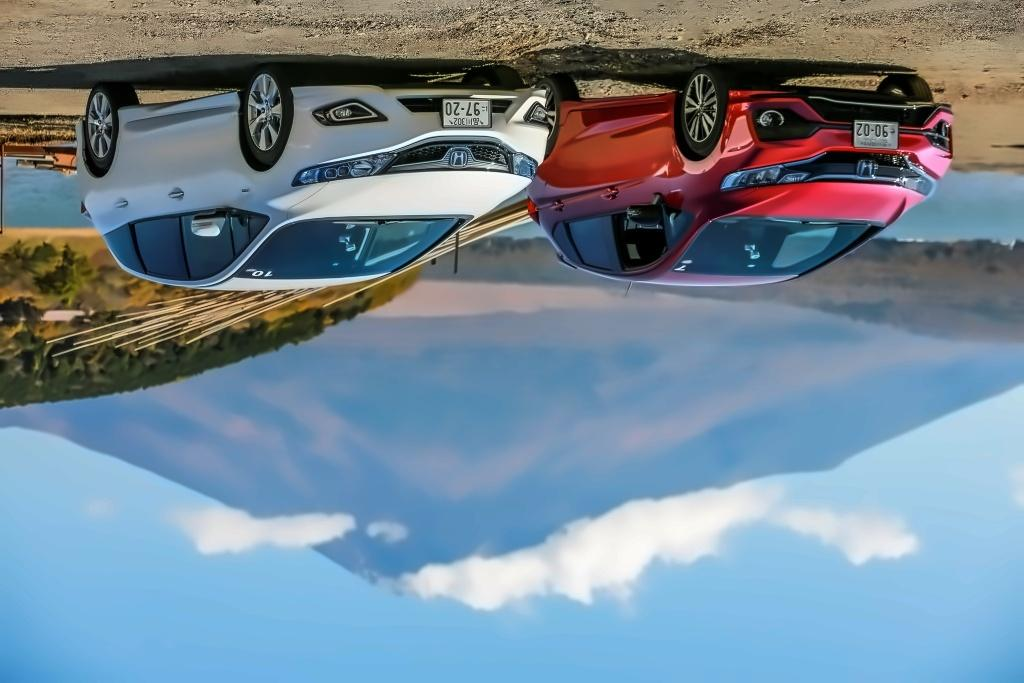Car hood: (280, 170, 530, 228), (686, 183, 927, 224)
Fender - -F-L-: (232, 95, 319, 228), (660, 107, 746, 219)
Fender - -R-L-: (75, 121, 131, 247)
Front bumper: (274, 81, 546, 182), (722, 86, 955, 180)
Headlight - -L-: (717, 152, 833, 192), (289, 151, 399, 185)
Headlight - -R-: (899, 164, 939, 202), (509, 147, 541, 183)
Passenger-s door - -F-L-: (157, 85, 251, 290), (602, 81, 680, 291)
Passenger-s door - -R-L-: (101, 86, 198, 287), (542, 84, 628, 281)
Side bumper - -L-: (111, 82, 245, 150), (553, 88, 682, 151)
Side mirror - -L-: (626, 191, 666, 228), (190, 208, 235, 238)
